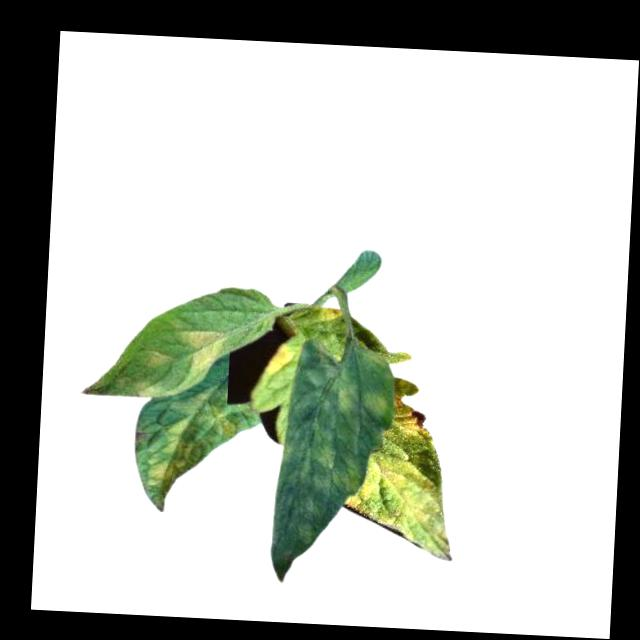Leaf_Mold: (276, 339, 385, 570), (341, 440, 462, 566), (148, 391, 240, 496), (392, 390, 435, 444), (181, 328, 227, 374), (262, 342, 297, 380), (142, 349, 176, 372), (317, 306, 345, 328)
